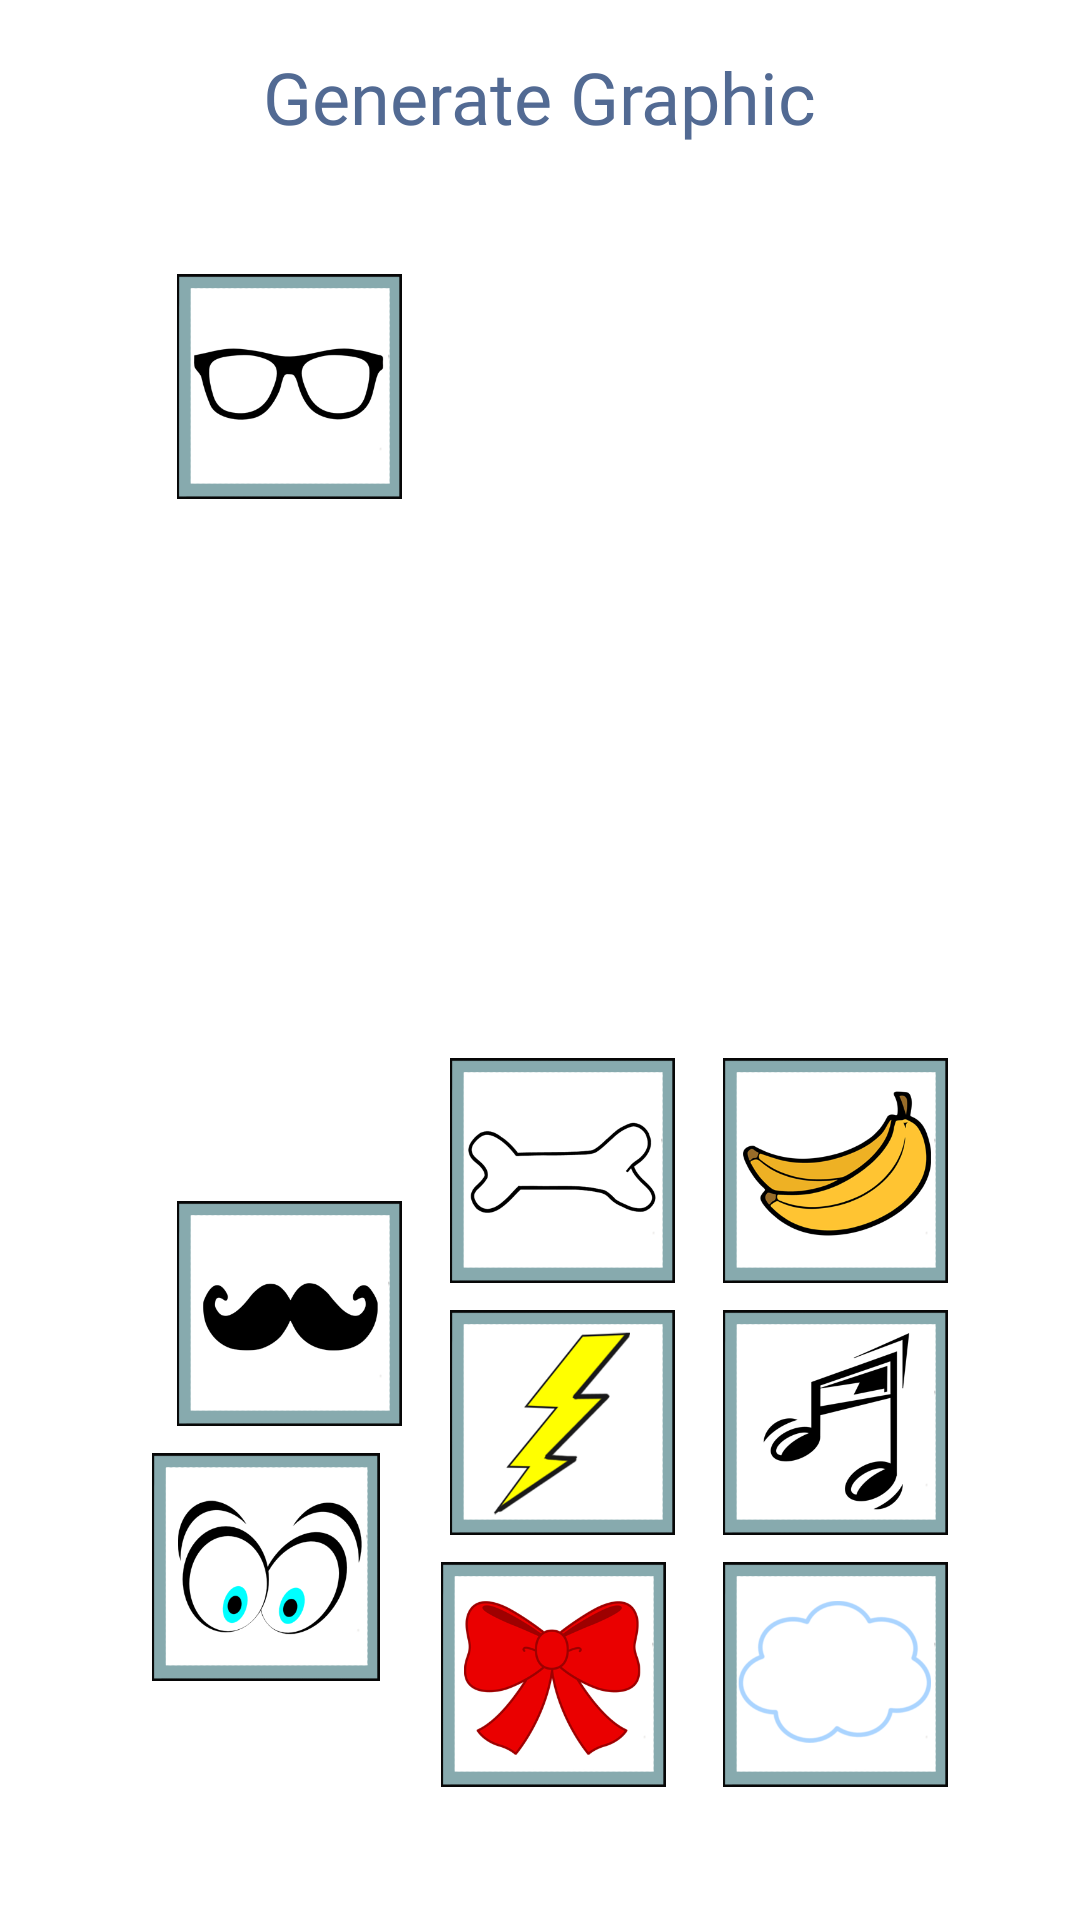

Where icons sit on this 1080x1920 app screen, as (x1, y1, x2, y2):
generategraphic banana: (723, 1058, 948, 1283)
generategraphic bone: (450, 1058, 675, 1283)
generategraphic bow: (441, 1562, 666, 1787)
generategraphic cloud: (723, 1562, 948, 1787)
generategraphic eyes: (152, 1453, 380, 1681)
generategraphic lightning: (450, 1310, 675, 1535)
generategraphic moustache: (177, 1201, 402, 1426)
generategraphic notes: (723, 1310, 948, 1535)
